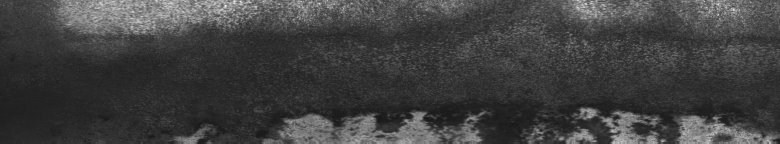kb: (66, 4, 776, 136)
